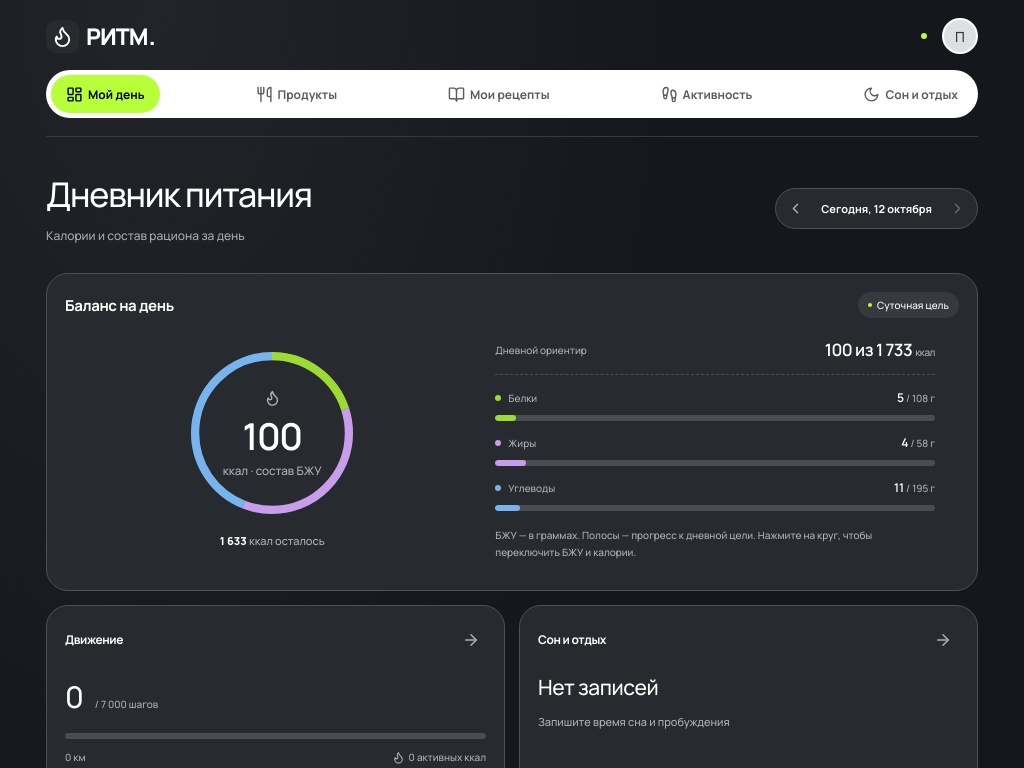
Scenario: App authentication boundary › hides the account profile when logout completes
The image size is (1024, 768).
Click the button named "Профиль и цели" at coordinates (960, 36), box [942,18,978,54]
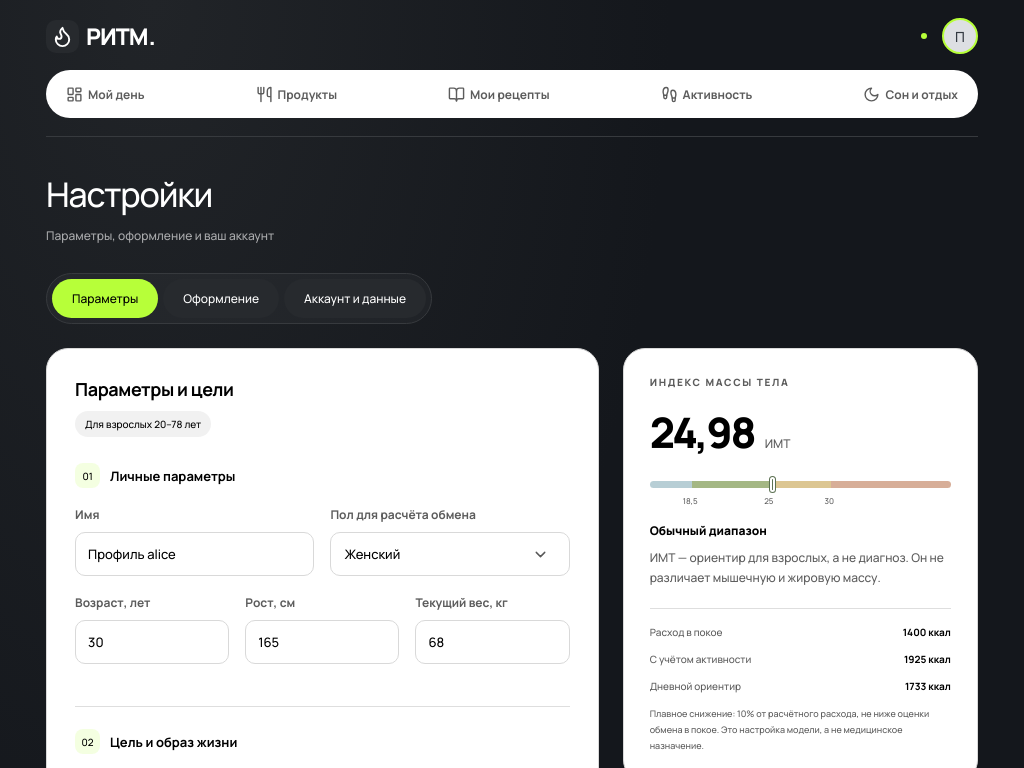
Check: the field labelled "Имя" holds "Профиль alice", box [75,532,314,576]
Check: the tab "Аккаунт и данные" is shown
Click the tab "Аккаунт и данные" at coordinates (355, 299), box [284,279,426,318]
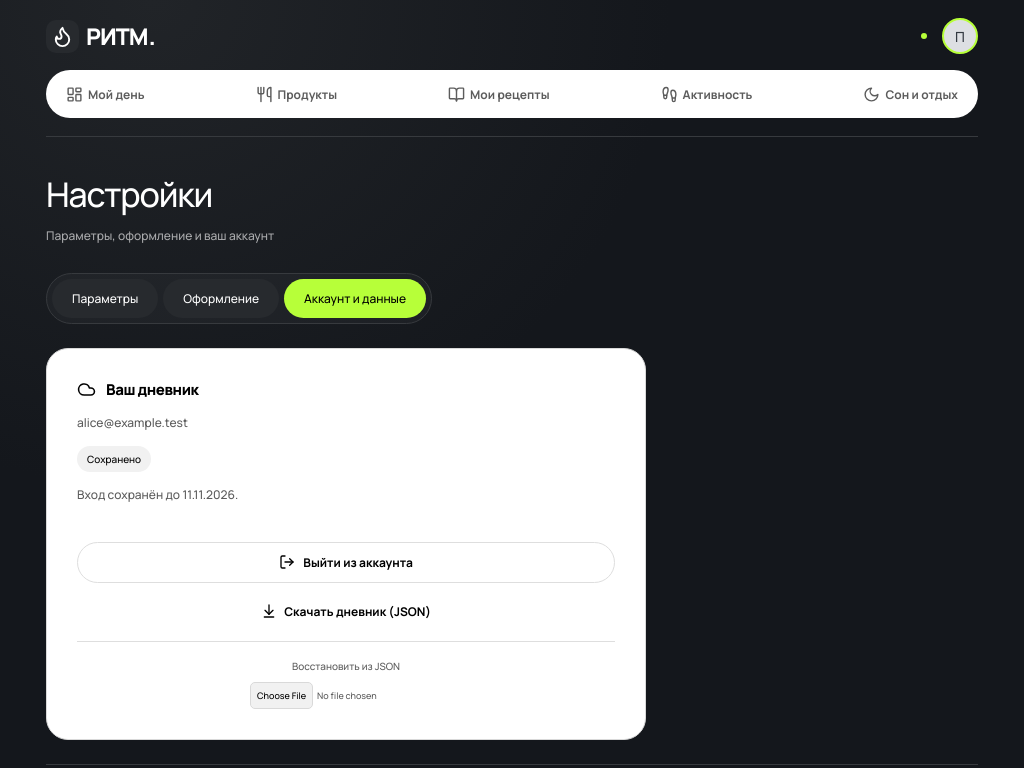
Check: the button "Выйти из аккаунта" is shown
Check: the text "alice@example.test" is shown, box [77,414,188,431]
Click the button "Выйти из аккаунта" at coordinates (346, 562), box [77,542,615,583]
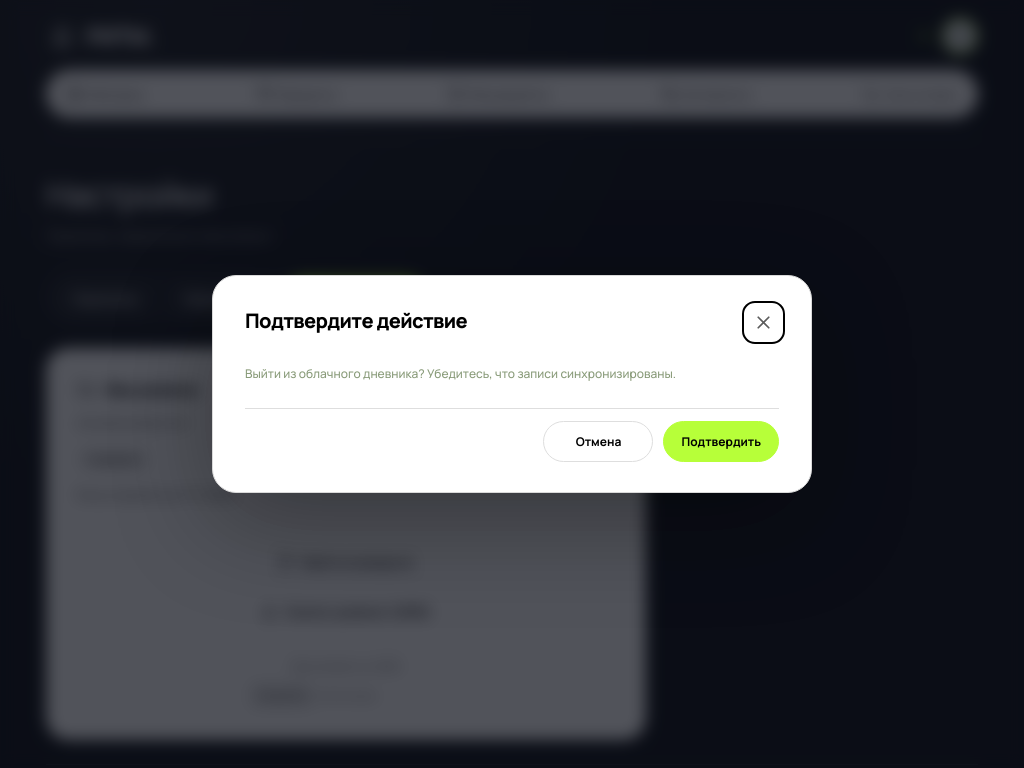
Check: the button "Подтвердить" is shown
Click the button "Подтвердить" at coordinates (721, 441), box [664,421,779,462]
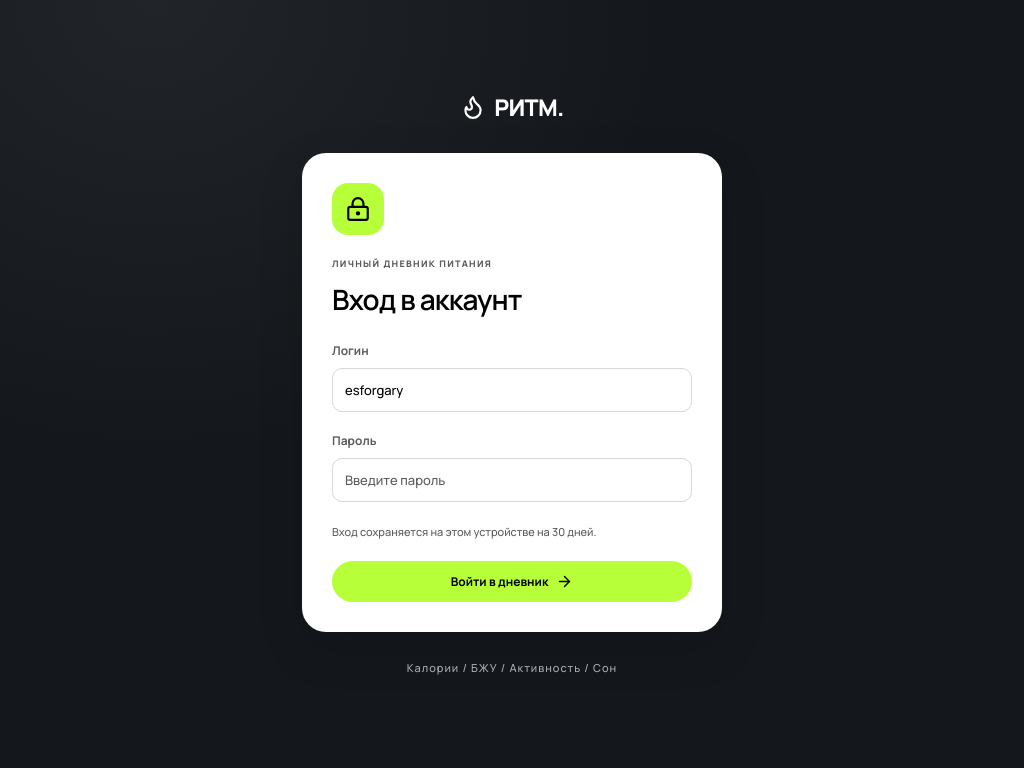
Check: the heading "Вход в аккаунт" is shown, box [332,280,522,318]
Check: the navigation bar is gone
Check: the dialog is gone
